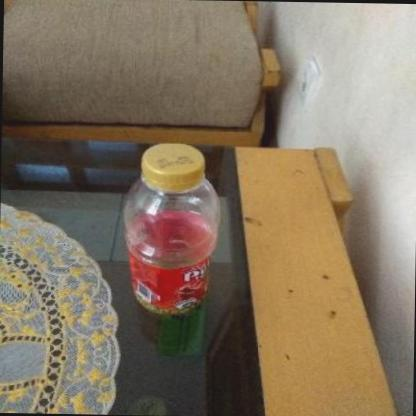plastic_bottles: (118, 137, 228, 322)
